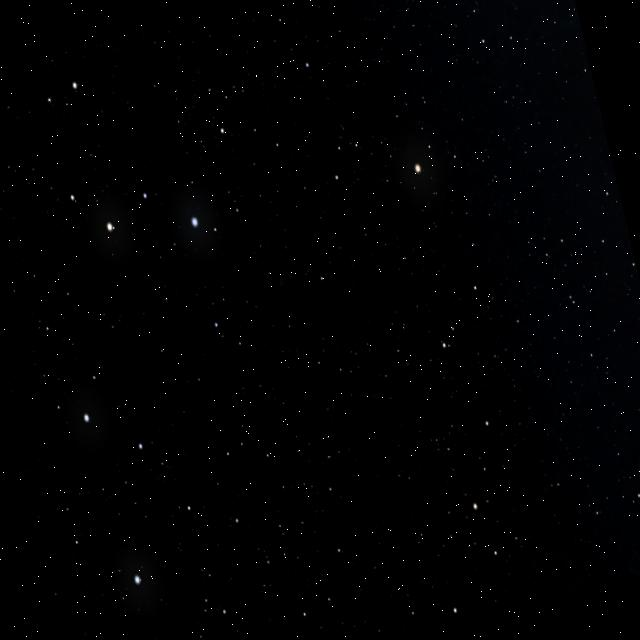Sextans: (294, 266, 344, 372)
